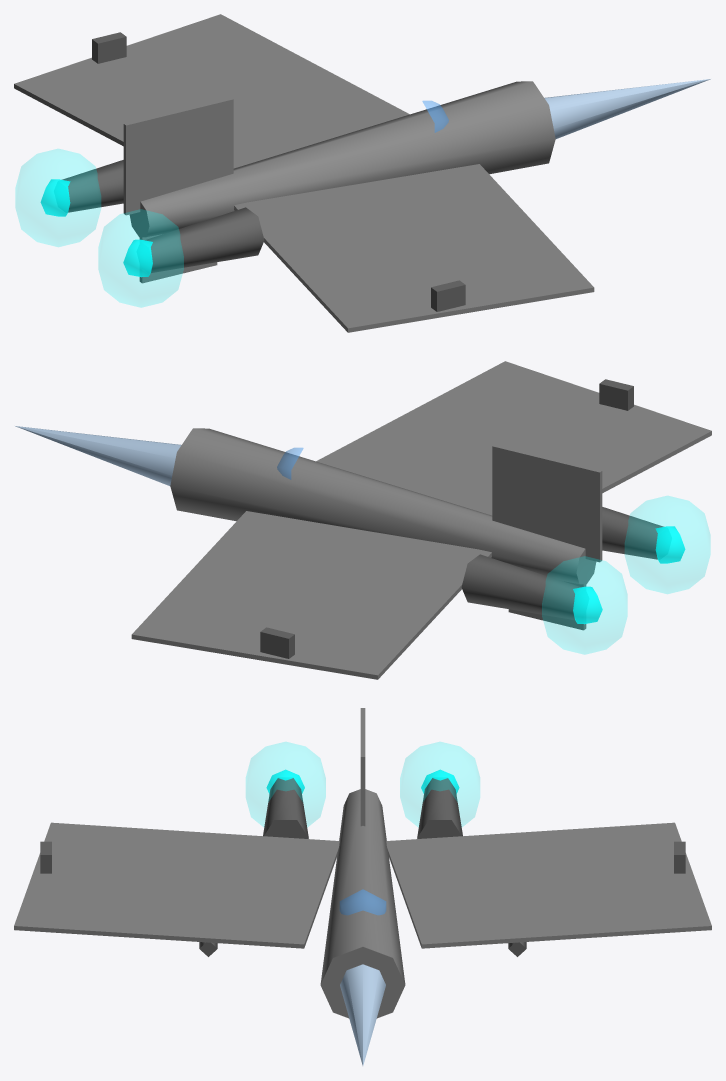
The model's file is fighter.glb.
3 views of the same model, one above another, from view 1: azimuth 30°, elevation 25°; view 2: azimuth 150°, elevation 25°; view 3: azimuth 270°, elevation 25° (orthographic). The views are drawn at different scales.
Visible parts, largest first — view 1: body_wingR, body_wingL, body_fuselage, body_dorsalFin, glow_L, glow, accent_nacelleR, nose, accent_nacelleL, exhaust_L, exhaust, accent_wingletR (+2 smaller); view 2: body_wingL, body_wingR, body_fuselage, body_dorsalFin, glow, glow_L, accent_nacelleL, nose, accent_nacelleR, exhaust, exhaust_L, accent_wingletL (+2 smaller); view 3: body_wingR, body_wingL, body_fuselage, glow, glow_L, nose, accent_nacelleL, accent_nacelleR, canopy, body_dorsalFin.
Boxes of the visible parts, x1,y1,x2,y2 form: body_wingR: (234, 164, 594, 332); body_wingL: (14, 14, 409, 168); body_fuselage: (129, 81, 555, 237); body_dorsalFin: (123, 97, 233, 215); glow_L: (15, 149, 100, 246); glow: (98, 209, 183, 307); accent_nacelleR: (145, 207, 264, 272); nose: (544, 79, 710, 138); accent_nacelleL: (62, 160, 123, 212); exhaust_L: (40, 179, 70, 216); exhaust: (123, 239, 152, 277); accent_wingletR: (431, 280, 465, 311); body_wingL: (131, 511, 491, 679); body_wingR: (316, 361, 711, 515); body_fuselage: (170, 428, 596, 584); body_dorsalFin: (492, 444, 602, 562); glow: (625, 496, 710, 593); glow_L: (542, 556, 627, 654); accent_nacelleL: (461, 554, 580, 619); nose: (15, 426, 181, 485); accent_nacelleR: (602, 507, 663, 559); exhaust: (655, 526, 685, 563); exhaust_L: (573, 586, 602, 624); accent_wingletL: (260, 627, 294, 658); body_wingR: (14, 822, 339, 948); body_wingL: (386, 822, 711, 948); body_fuselage: (320, 789, 405, 1018); glow: (246, 742, 325, 826); glow_L: (400, 742, 479, 826); nose: (340, 964, 385, 1065); accent_nacelleL: (417, 778, 462, 838); accent_nacelleR: (263, 778, 308, 838); canopy: (339, 889, 386, 915); body_dorsalFin: (360, 708, 365, 826).
Size of the model in its own units: 9.15 by 2.16 by 9.04.
